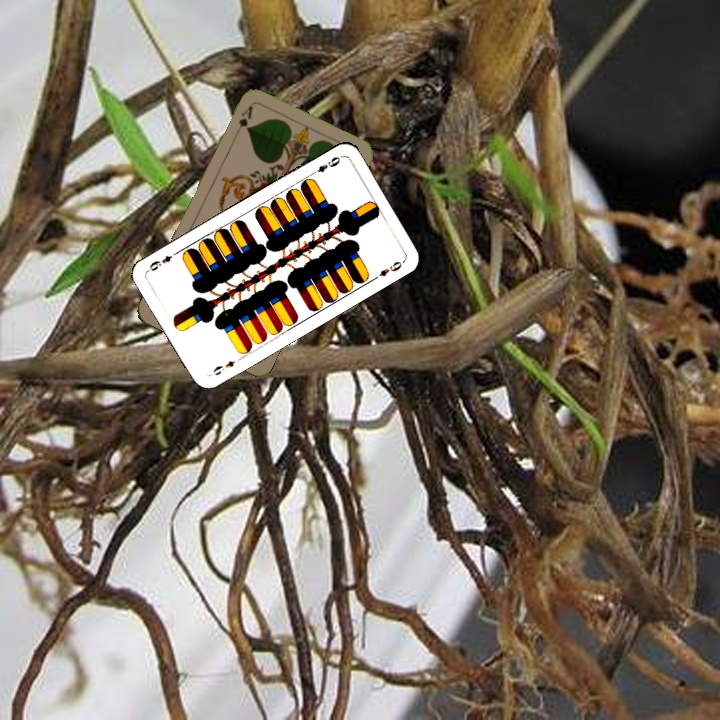E9: (307, 152, 343, 178), (209, 356, 238, 378)
GA: (230, 102, 255, 138)
